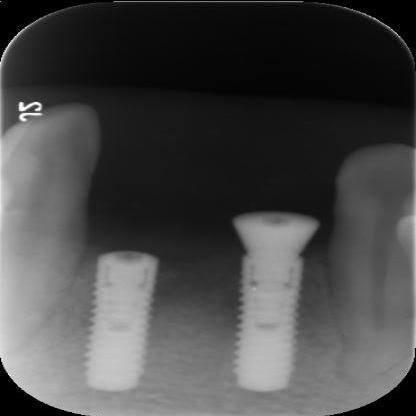ITI: (81, 248, 161, 395), (227, 252, 307, 395)
